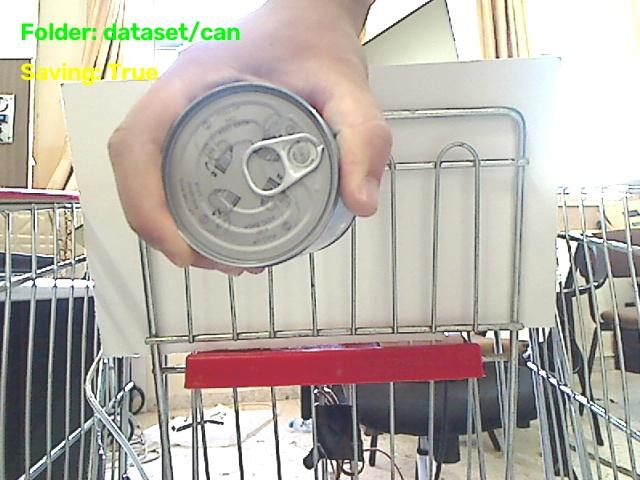can: (162, 83, 353, 267)
